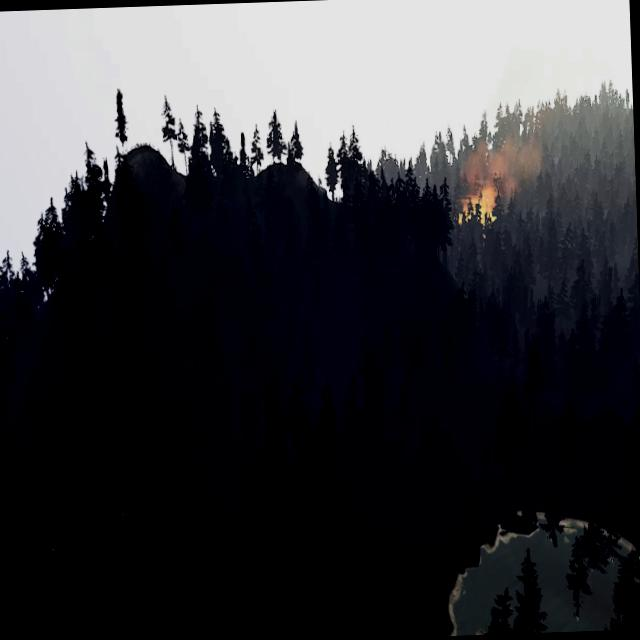fire: (458, 186, 498, 234)
smoke: (459, 85, 559, 204)
